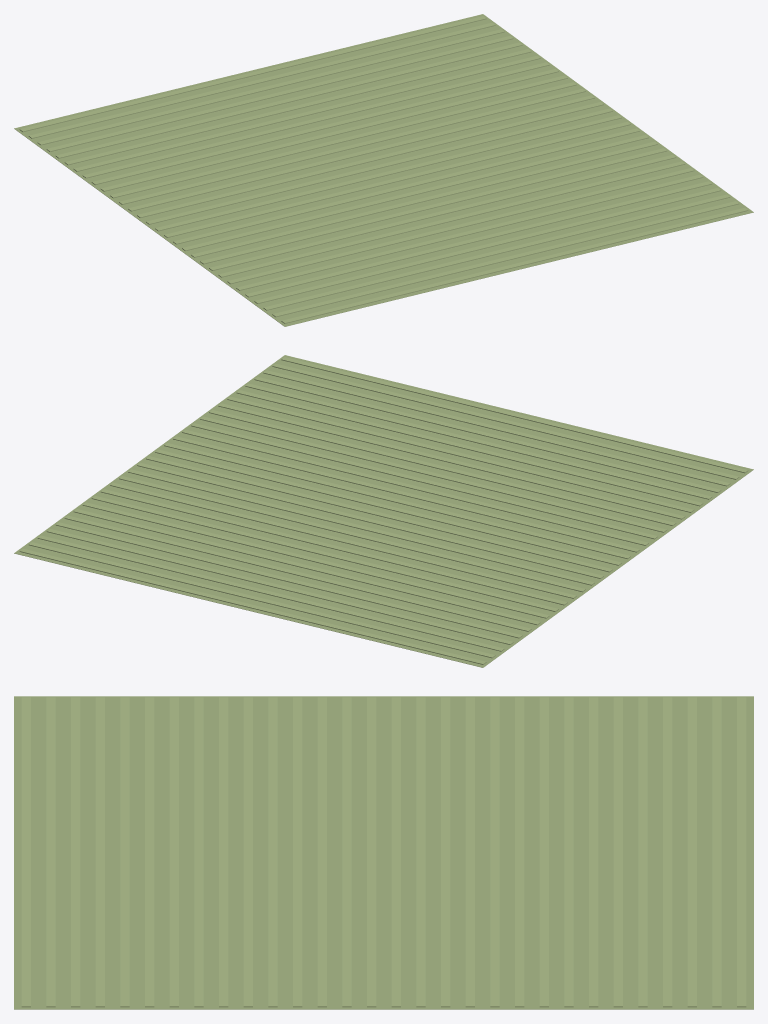
The model's file is crop-2.glb.
The picture shows the model from 3 angles, top to bottom: view 1: azimuth 30°, elevation 25°; view 2: azimuth 150°, elevation 25°; view 3: azimuth 270°, elevation 25°; orthographic projection. The views are drawn at different scales.
Bounding box in the file's own units: 60 × 0.125 × 60.
